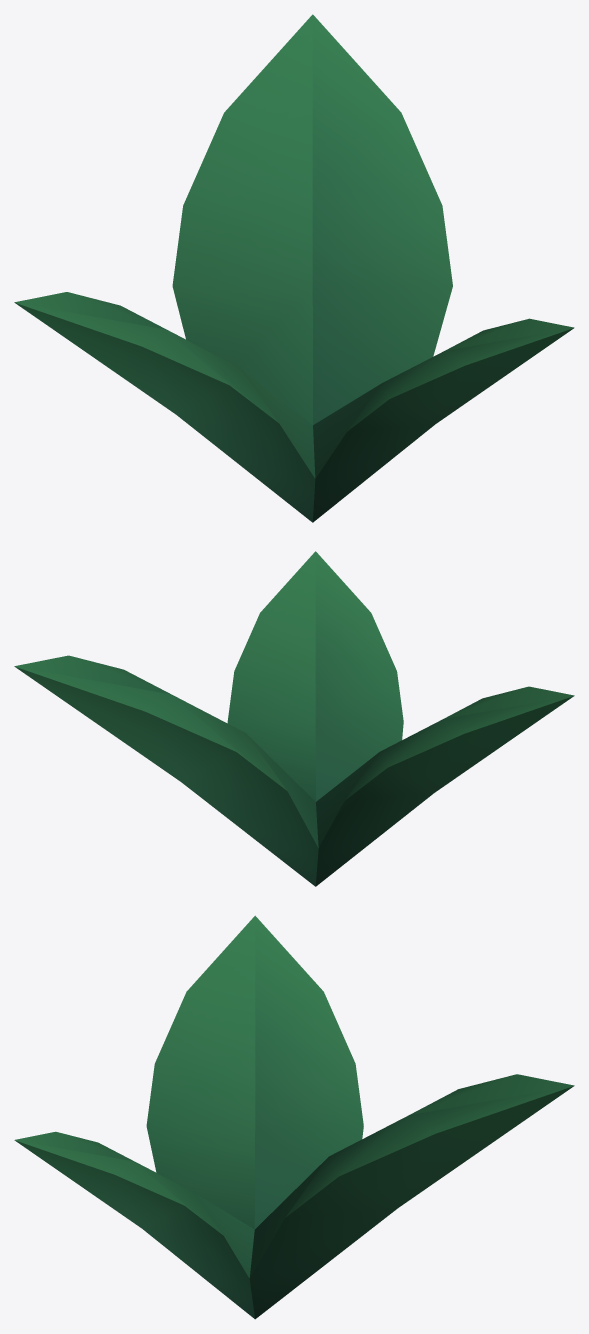
Rendered from waterplant-a.glb.
3 views of the same model, one above another, from view 1: azimuth 30°, elevation 25°; view 2: azimuth 150°, elevation 25°; view 3: azimuth 270°, elevation 25° (orthographic). The views are drawn at different scales.
Visible parts, largest first — view 1: waterplant-a; view 2: waterplant-a; view 3: waterplant-a.
Boxes of the visible parts, x1=… form: waterplant-a: x1=14, y1=14, x2=574, y2=522; waterplant-a: x1=14, y1=551, x2=574, y2=886; waterplant-a: x1=14, y1=915, x2=574, y2=1319.
Size of the model in its own units: 1.2 by 0.8001 by 1.3.
